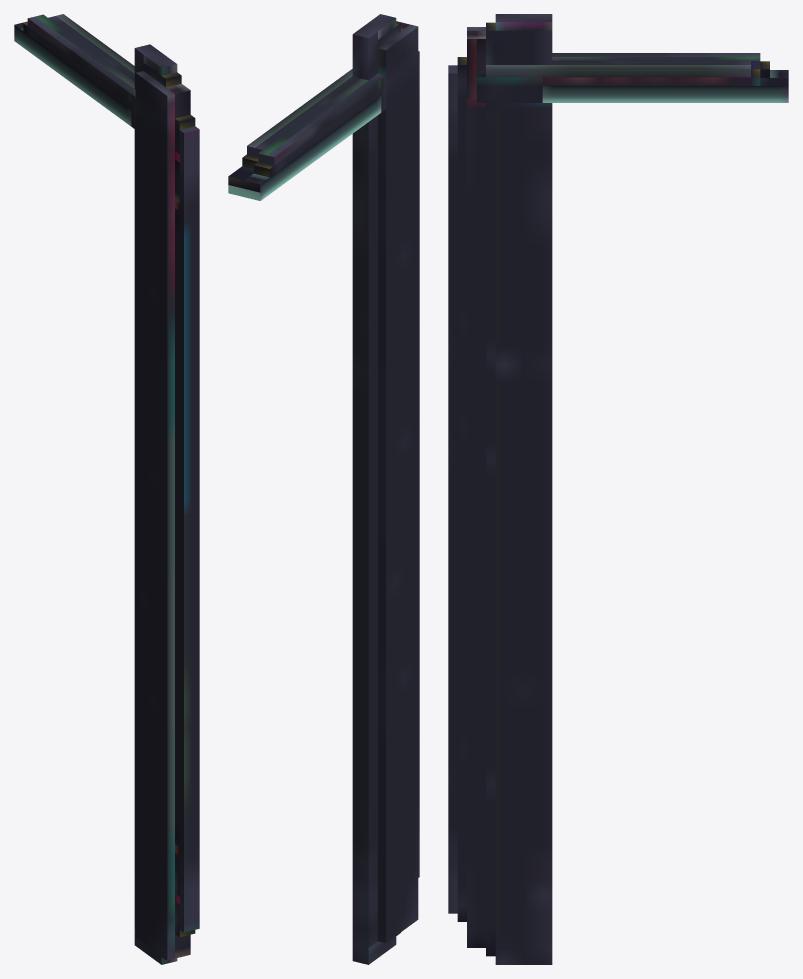
File: LightPole_B_00.fbx
3 renders of one model, left to right at view 1: azimuth 30°, elevation 25°; view 2: azimuth 150°, elevation 25°; view 3: azimuth 270°, elevation 25°, orthographic. The views are drawn at different scales.
Visible parts, largest first — view 1: LightPole_B_00; view 2: LightPole_B_00; view 3: LightPole_B_00.
Boxes of the visible parts, x1,y1,x2,y2 form: LightPole_B_00: (14, 14, 199, 964); LightPole_B_00: (228, 14, 419, 964); LightPole_B_00: (448, 14, 788, 964).
Bounding box in the file's own units: 20 × 550 × 180.
